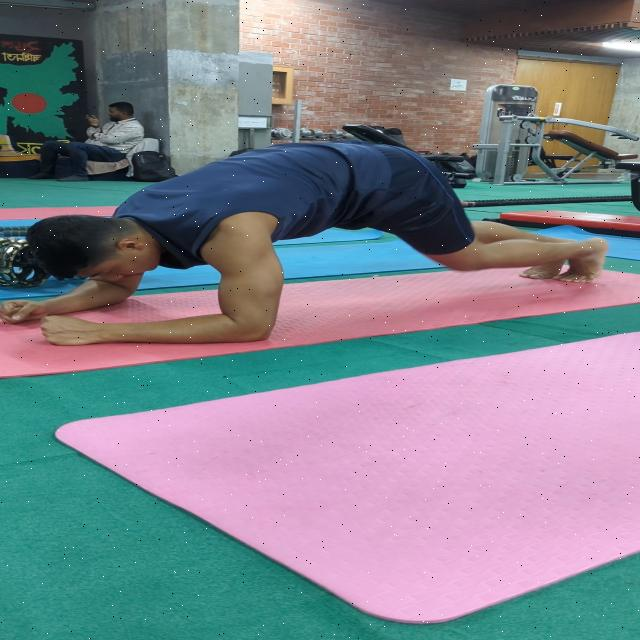Normal_MountainClimbers: (0, 140, 619, 360)
